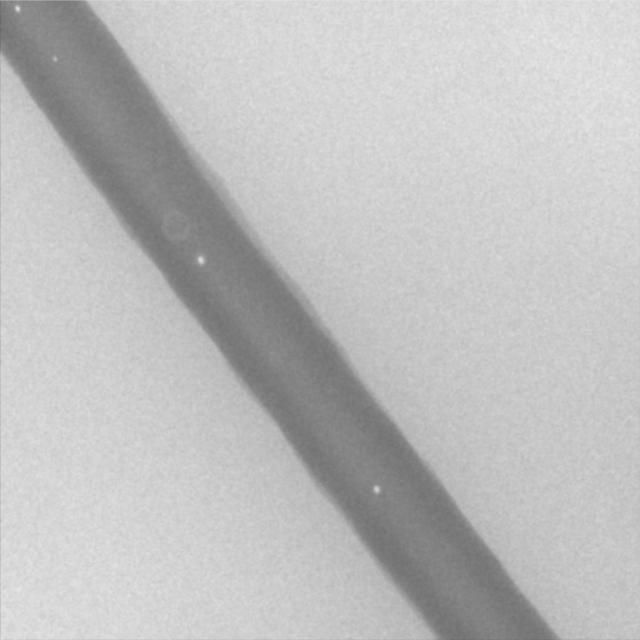air hole: (370, 482, 381, 496), (195, 255, 205, 267), (12, 3, 22, 13), (52, 55, 58, 64)
hollow bead: (159, 208, 191, 244)
